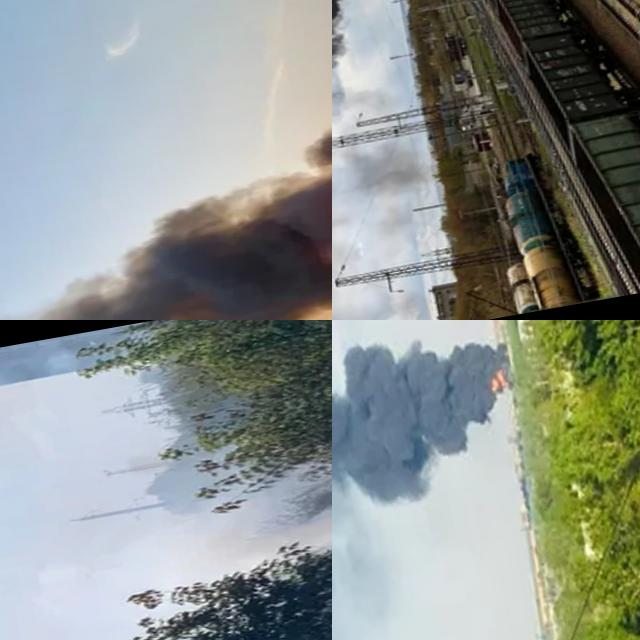smoke: (0, 61, 332, 320), (41, 427, 332, 636), (332, 320, 540, 612), (332, 0, 436, 211)
